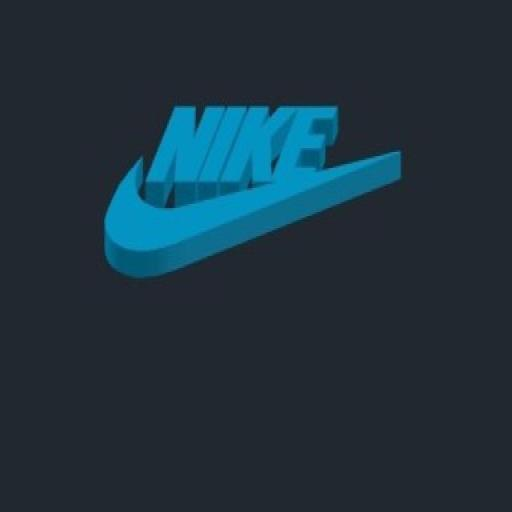Nike: (101, 146, 399, 272), (145, 100, 340, 194)
